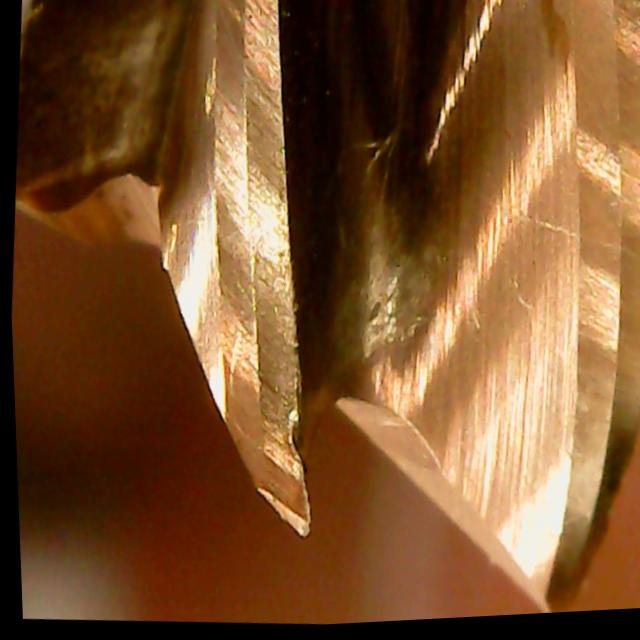Tool-wear-class-1: (146, 173, 345, 554)
